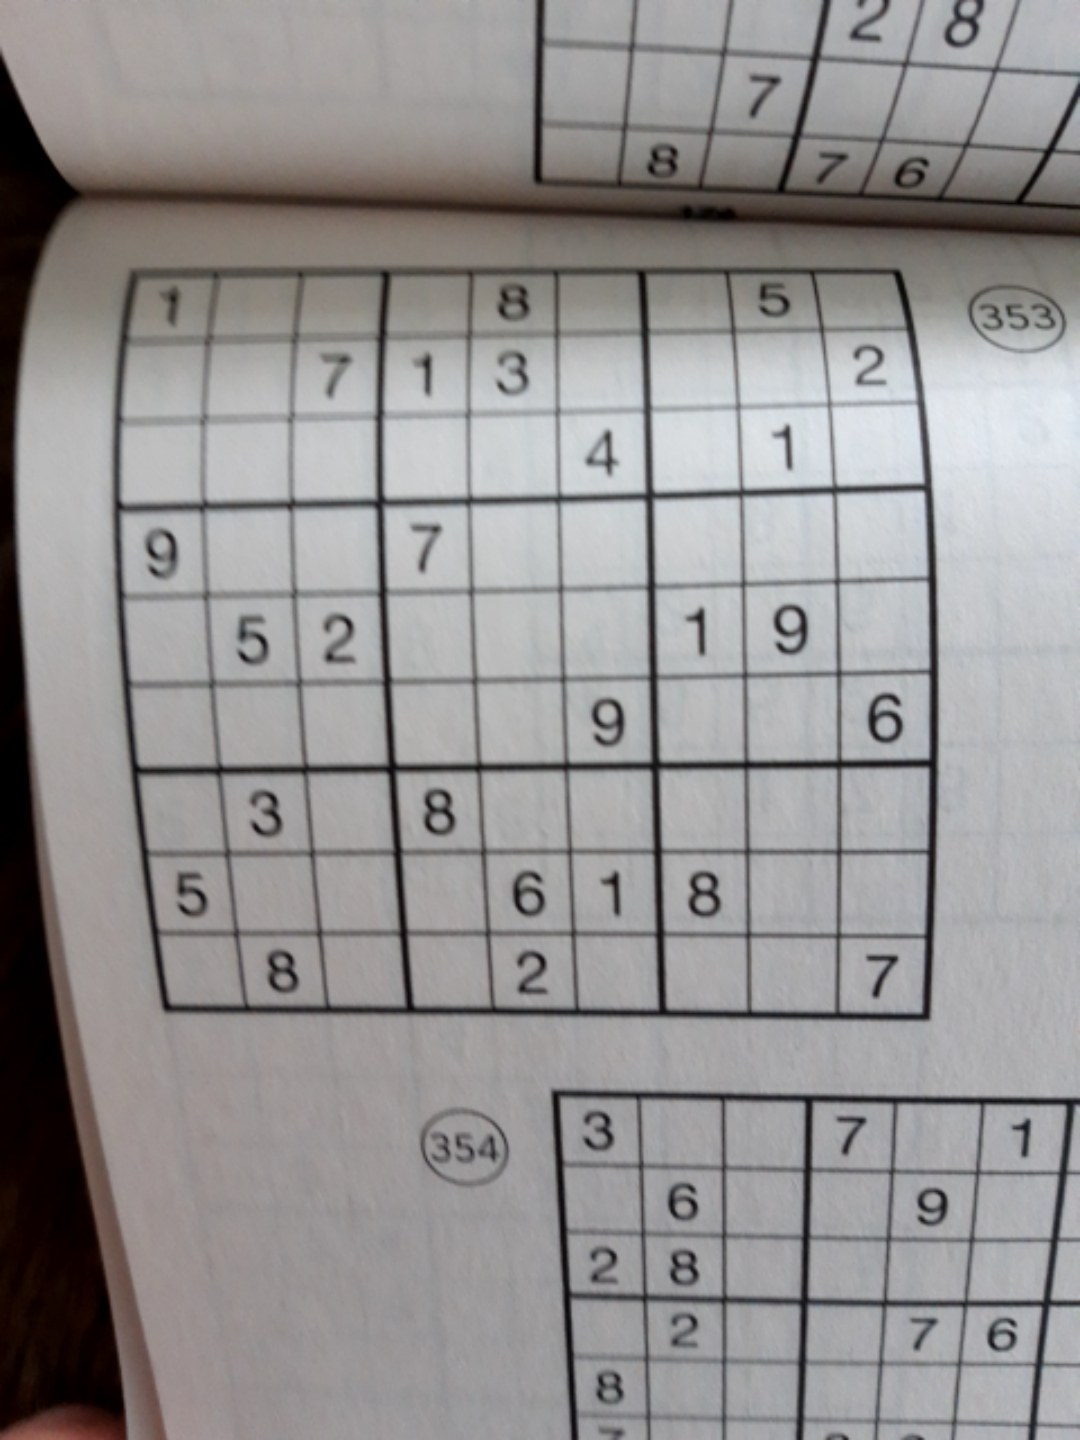sudoku: (108, 260, 936, 1023)
